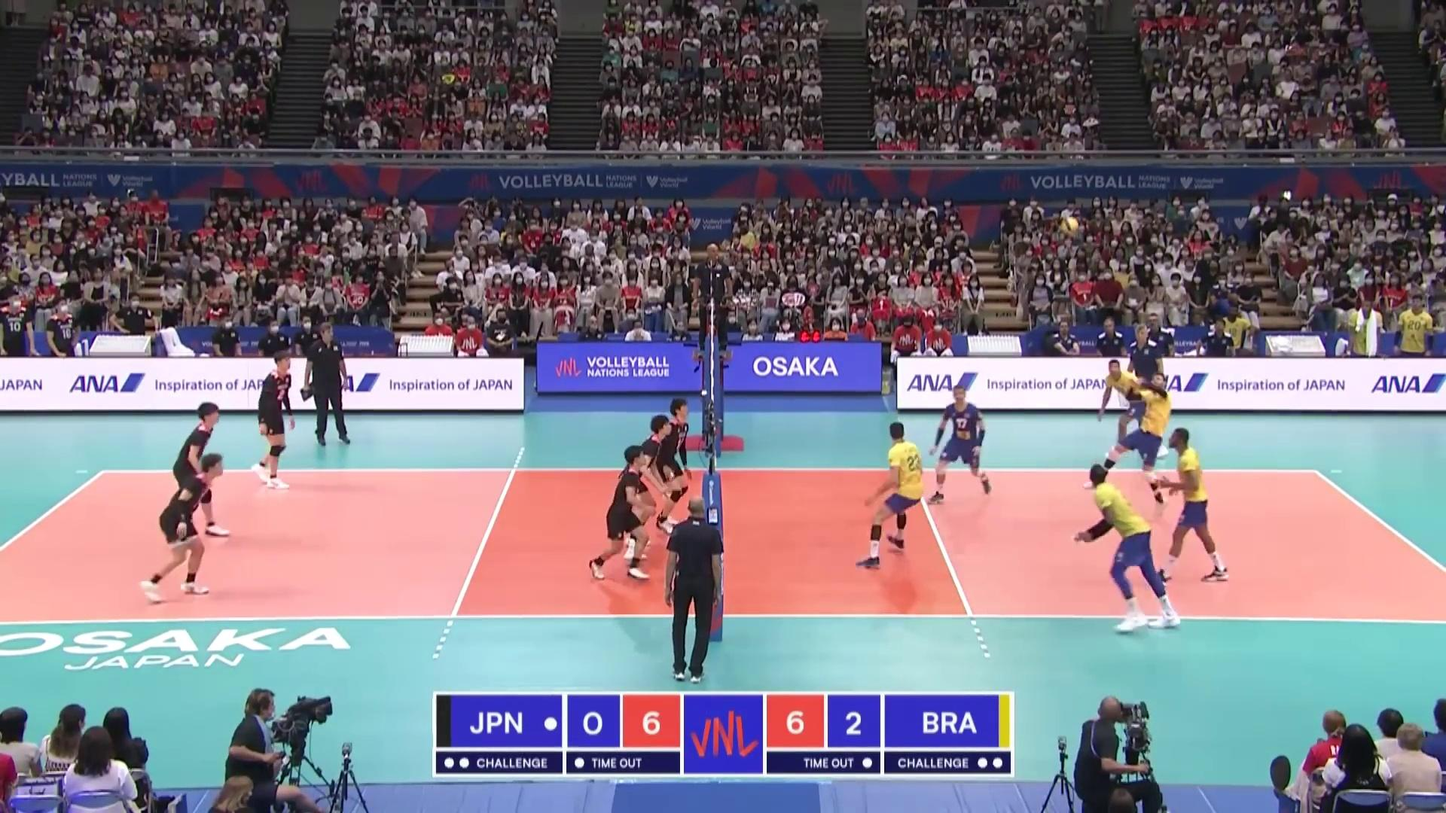player: (1073, 464, 1180, 634), (1083, 374, 1171, 516), (143, 454, 222, 603), (1151, 429, 1227, 583), (854, 421, 924, 569), (173, 401, 230, 540), (590, 449, 648, 581), (620, 415, 672, 562), (929, 389, 993, 504), (1098, 361, 1170, 459), (254, 352, 294, 492), (654, 398, 690, 536)
refree: (666, 500, 724, 684), (693, 241, 733, 374)
